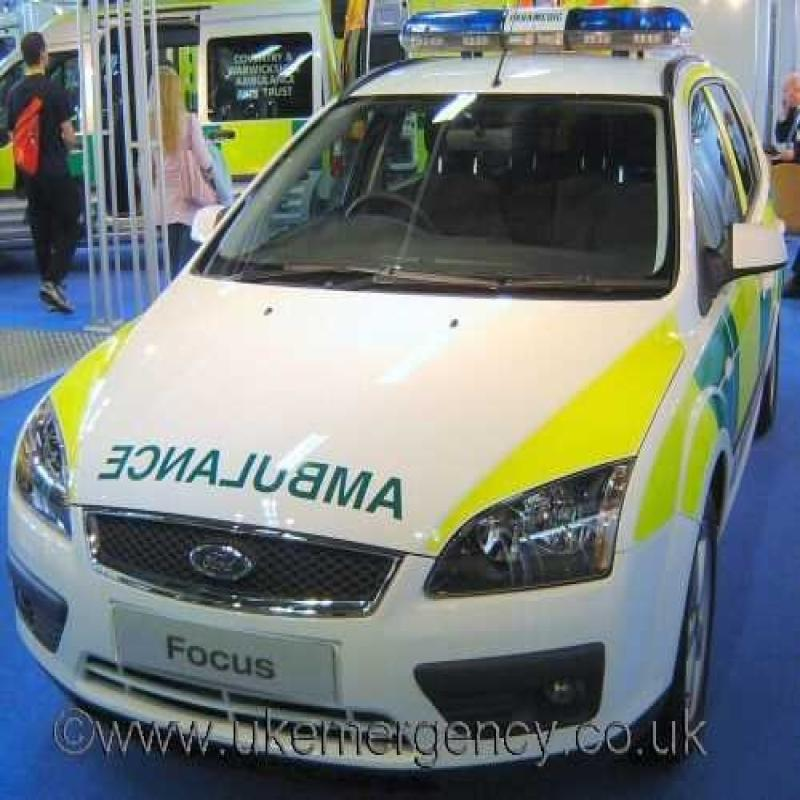AmbulanceSiren: (372, 0, 709, 70)
